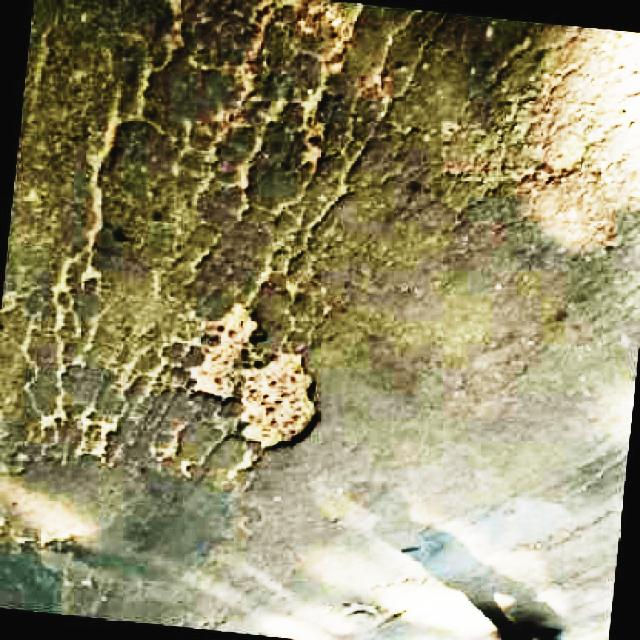pothole: (182, 303, 323, 459)
